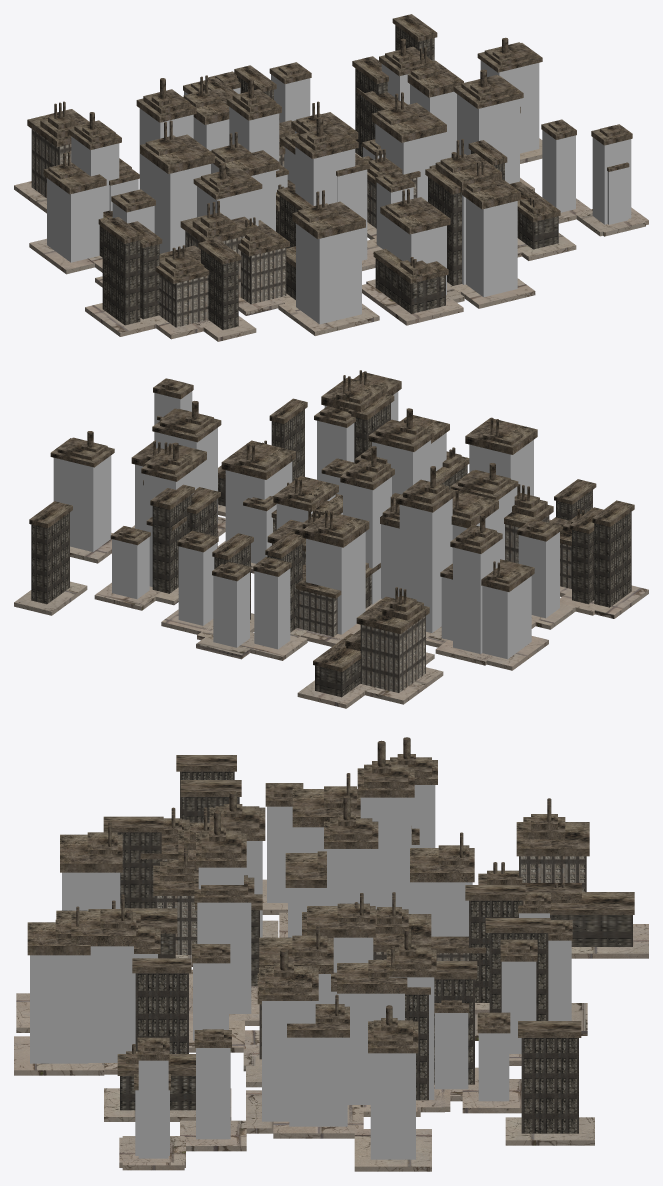
File: lowpolybigcitygame2.fbx
The picture shows the model from 3 angles, top to bottom: view 1: azimuth 30°, elevation 25°; view 2: azimuth 150°, elevation 25°; view 3: azimuth 270°, elevation 25°; orthographic projection. The views are drawn at different scales.
Visible parts, largest first — view 1: buildings, bases; view 2: buildings, bases; view 3: buildings, bases.
Part boxes in pixels (left/top/right/bottom): buildings: left=27, top=14, right=632, bottom=329; bases: left=14, top=138, right=648, bottom=341; buildings: left=29, top=370, right=634, bottom=697; bases: left=14, top=504, right=648, bottom=708; buildings: left=27, top=737, right=634, bottom=1159; bases: left=14, top=879, right=648, bottom=1171.
Size of the model in its own units: 6653 by 1994 by 5771.
